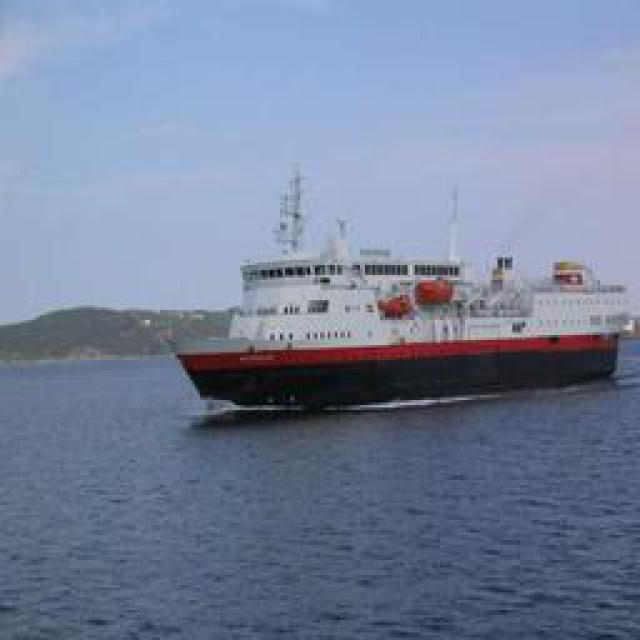Ship: (174, 182, 624, 415)
